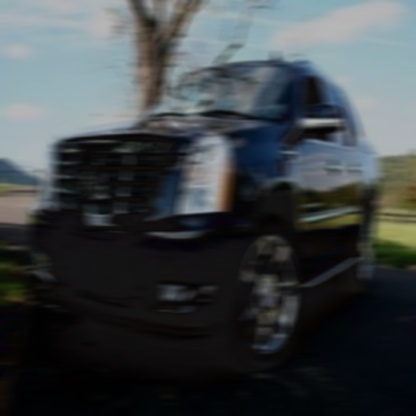Vehicle: (30, 58, 382, 368)
